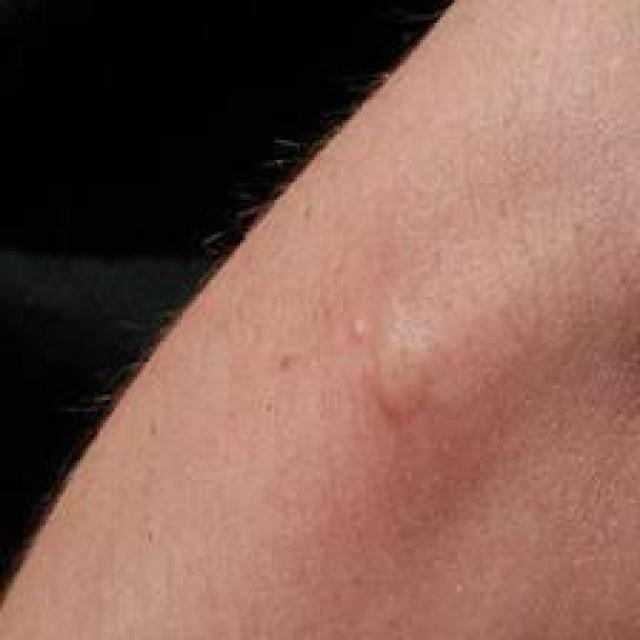sinek: (321, 256, 509, 481)
